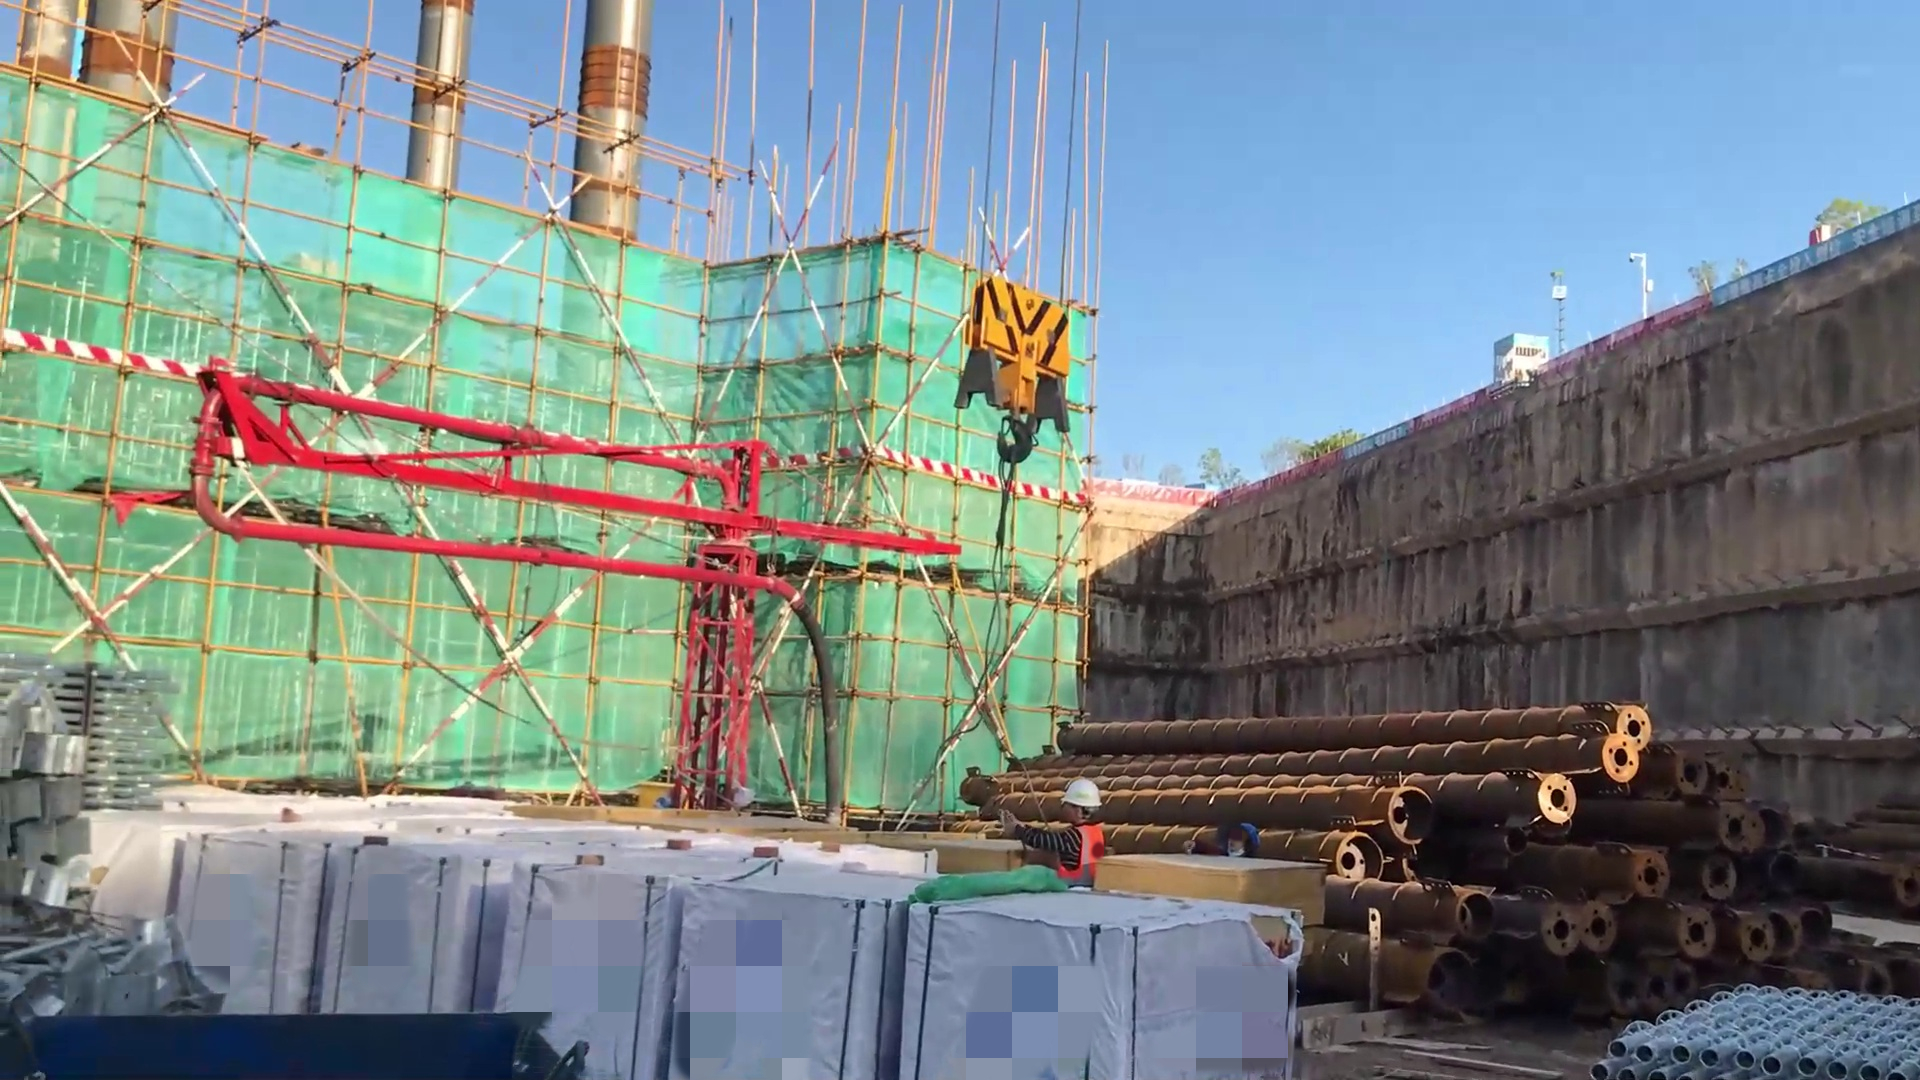board: (1093, 845, 1326, 918)
helmet: (1056, 780, 1108, 829), (1213, 815, 1255, 869)
hook: (955, 260, 1091, 544)
hopper: (1, 985, 565, 1078)
person: (975, 776, 1129, 901), (1181, 816, 1269, 886)
scaffold: (1, 651, 227, 823), (1597, 970, 1920, 1077)
slogan: (1702, 205, 1920, 313), (1336, 407, 1425, 471)
vest: (1047, 821, 1105, 883)
